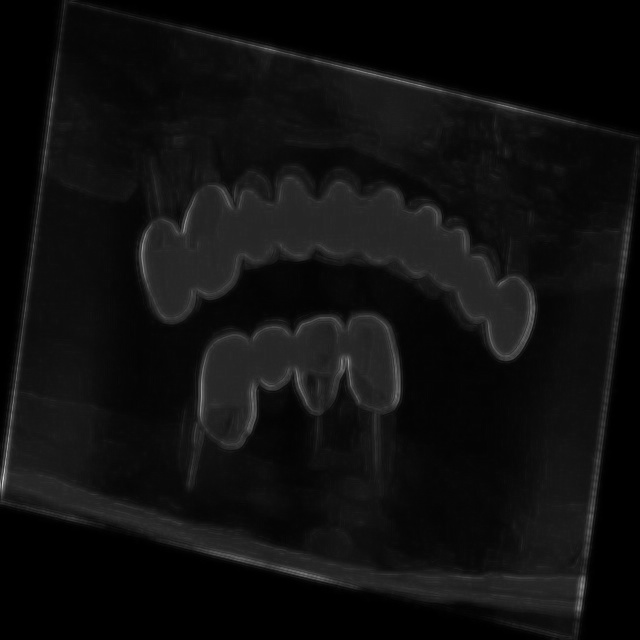Class 1- complete endodontic treatment: (324, 288, 448, 524)
Class 2- incomplete endodontic treatment: (89, 100, 222, 334), (150, 305, 270, 506), (272, 296, 360, 488)
cavity: (470, 151, 570, 400)
